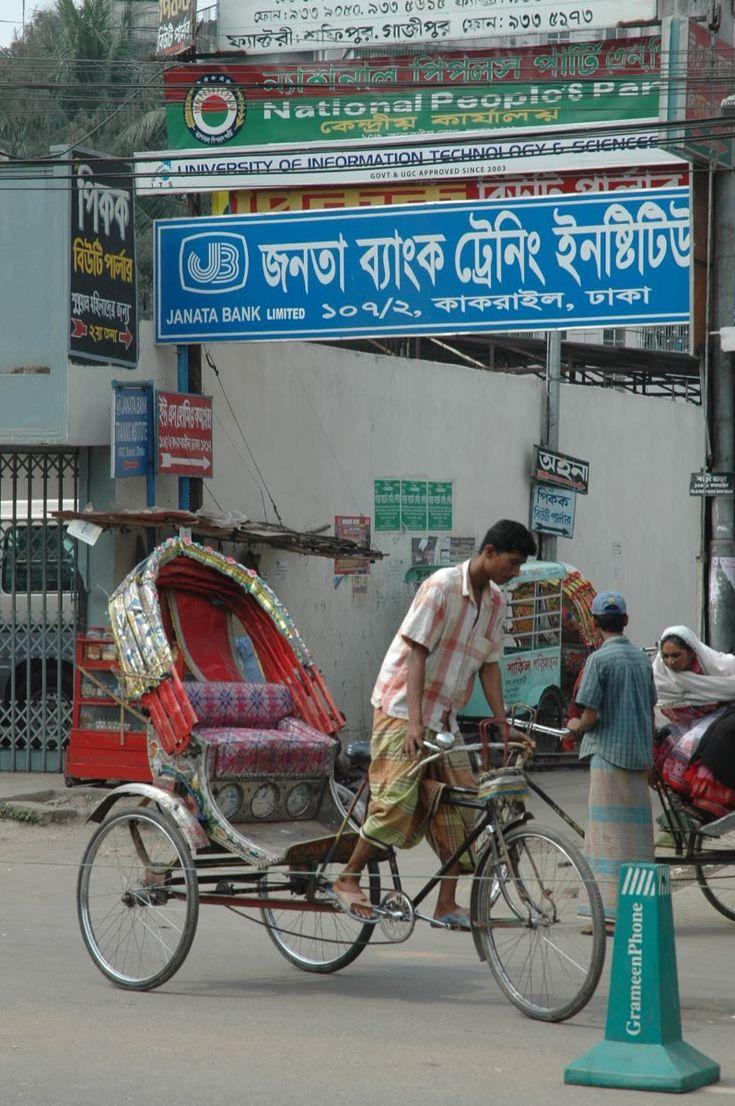Rickshaw: (77, 538, 604, 1019)
